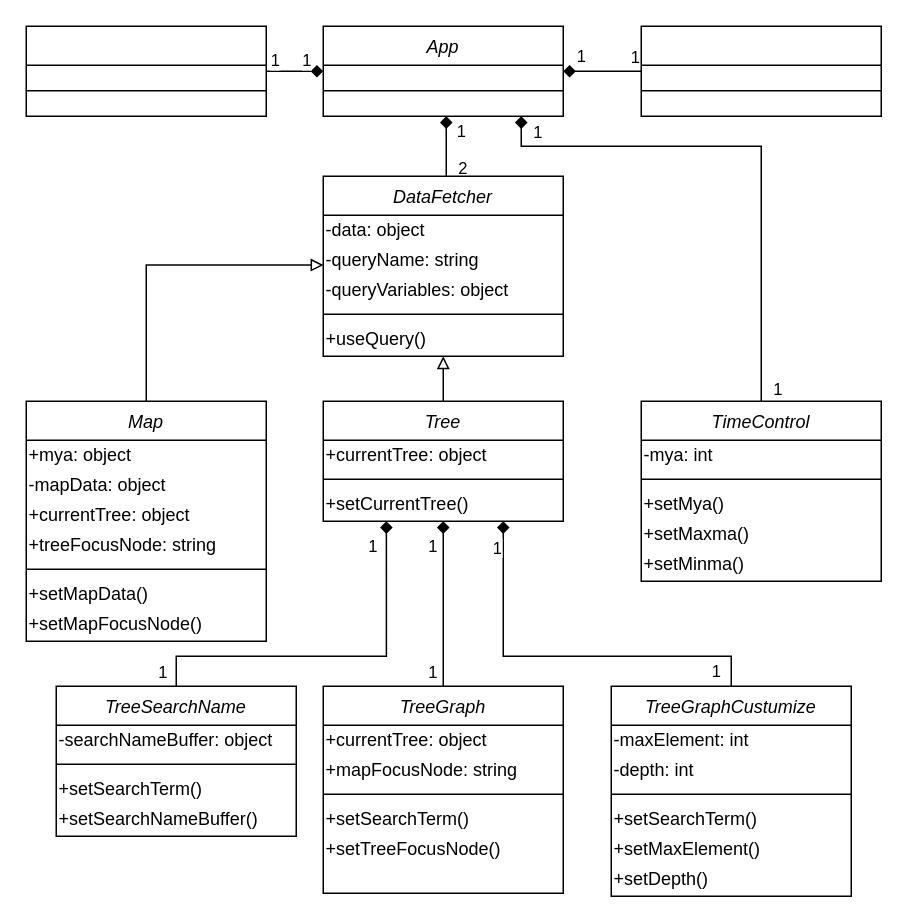
Some shapes in this 908 by 923 pixel diagram are drawn without their labels. The shapes that lost their labels are listed below. From the top down, each one's centre as x and y in pixels, then its label:
(x=145, y=70): Header
(x=760, y=70): Footer
